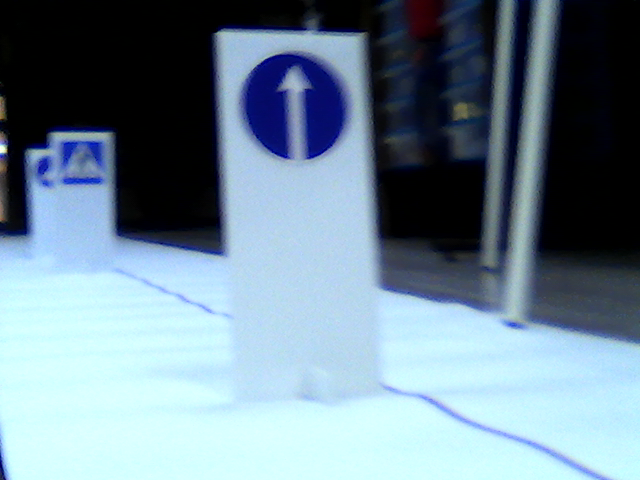forw: (240, 51, 350, 162)
pesh: (59, 139, 109, 186)
